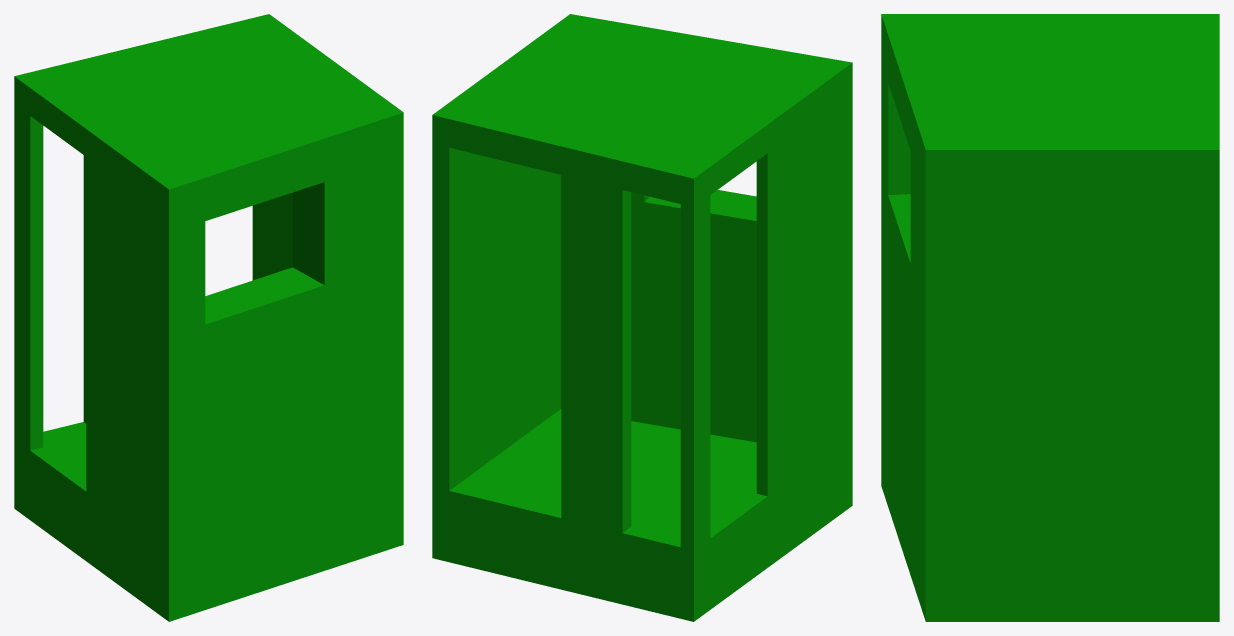
Rendered from salle2_rdc.obj.
3 views of the same model, side by side, from view 1: azimuth 30°, elevation 25°; view 2: azimuth 150°, elevation 25°; view 3: azimuth 270°, elevation 25° (orthographic). The views are drawn at different scales.
Visible parts, largest first — view 1: Salle2_RDC_Cube.021; view 2: Salle2_RDC_Cube.021; view 3: Salle2_RDC_Cube.021.
Boxes of the visible parts, box(x1,y1,x2,y2) form: Salle2_RDC_Cube.021: box(14, 14, 403, 621); Salle2_RDC_Cube.021: box(432, 14, 852, 621); Salle2_RDC_Cube.021: box(881, 14, 1219, 621).
Size of the model in its own units: 1.91 by 3.1 by 2.01.
